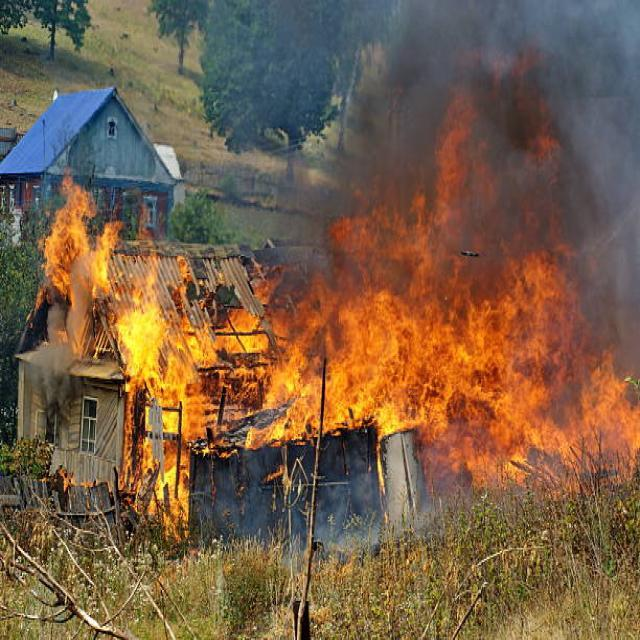Fire: (301, 159, 640, 511), (52, 220, 304, 464)
Smoke: (361, 4, 626, 308)
